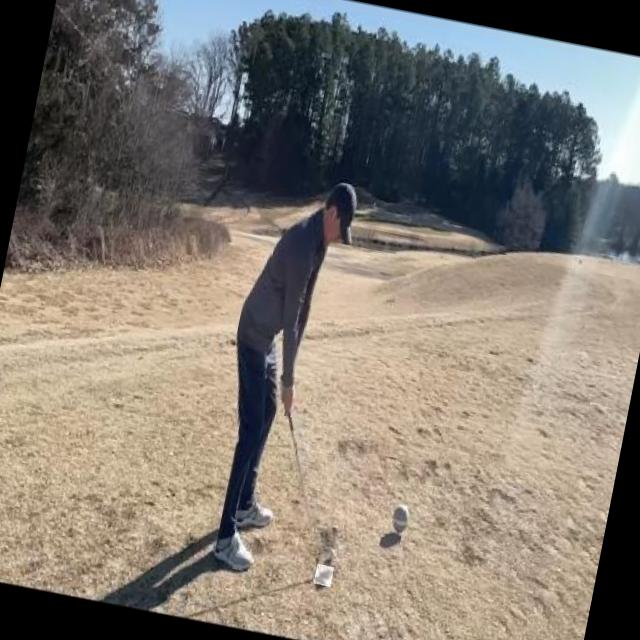club head: (314, 564, 334, 587)
